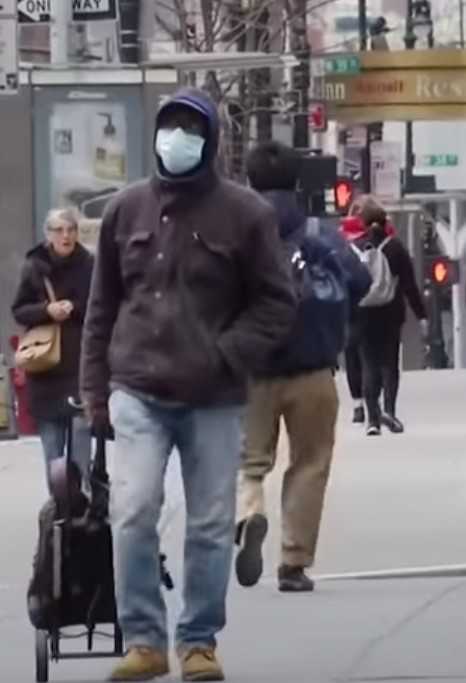face_with_mask: (151, 94, 223, 182)
